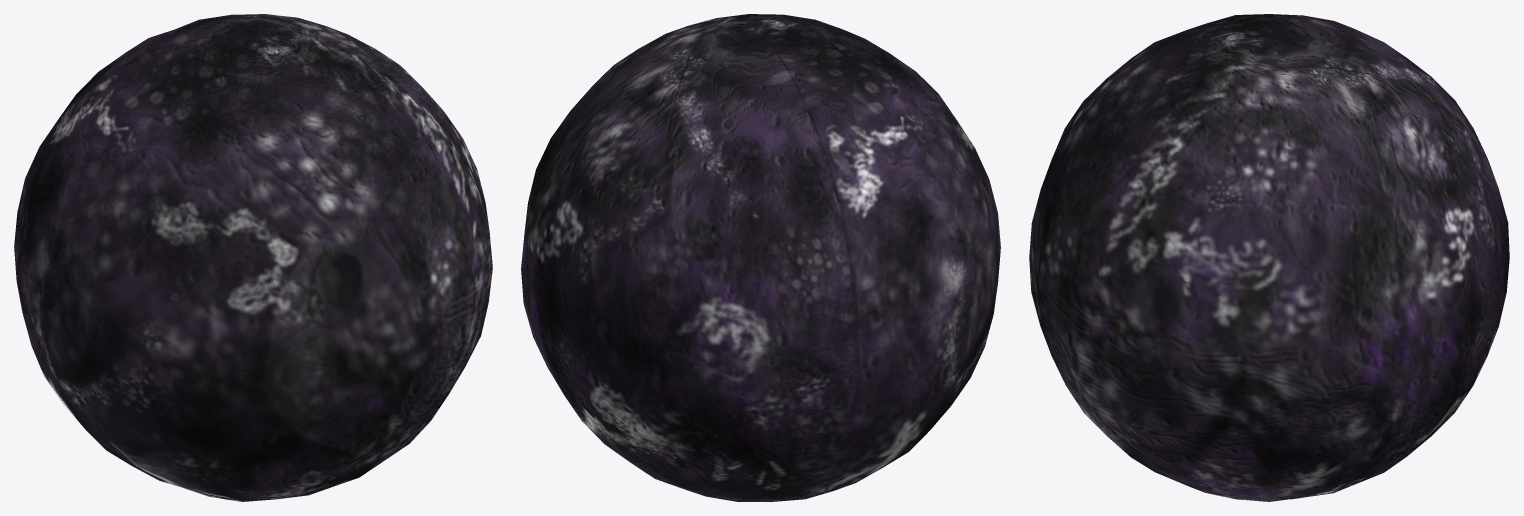
The model's file is astriod_final.fbx.
3 views of the same model, side by side, from view 1: azimuth 30°, elevation 25°; view 2: azimuth 150°, elevation 25°; view 3: azimuth 270°, elevation 25° (orthographic).
Parts seen in each view (by area): view 1: astriods02; view 2: astriods02; view 3: astriods02.
Part boxes in pixels (bbox=[...]): astriods02: bbox=[14, 14, 492, 501]; astriods02: bbox=[521, 14, 1000, 501]; astriods02: bbox=[1029, 14, 1509, 501].
Bounding box in the file's own units: 13.78 × 14 × 13.76.
